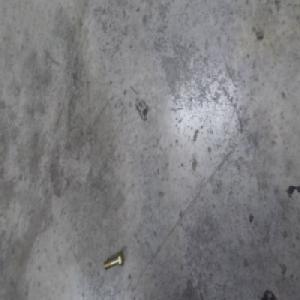Bolt: (102, 248, 124, 268)
